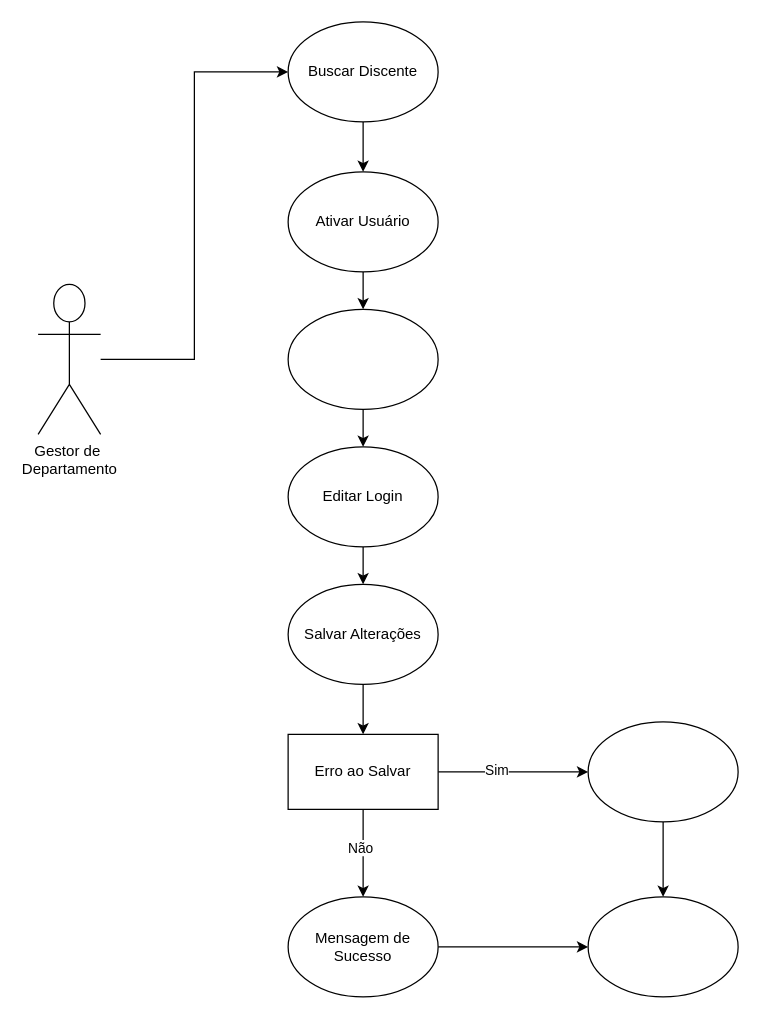
Image size: 760x1019. Some labels were removed from this diagram. The box of each missing label's shape, as (x1, y1, x2, y2) in pixels:
Mensagem de Error: (587, 721, 738, 822)
Recuperar Senha: (287, 308, 438, 409)
Retorno para Busca de Discentes: (587, 896, 738, 997)
